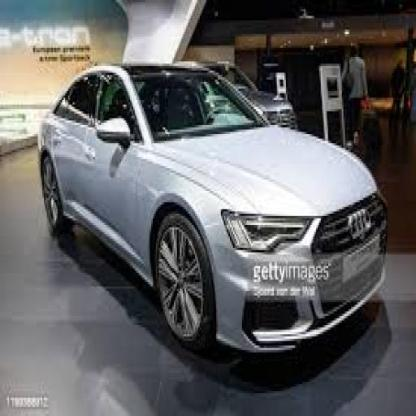car: (29, 55, 391, 364)
